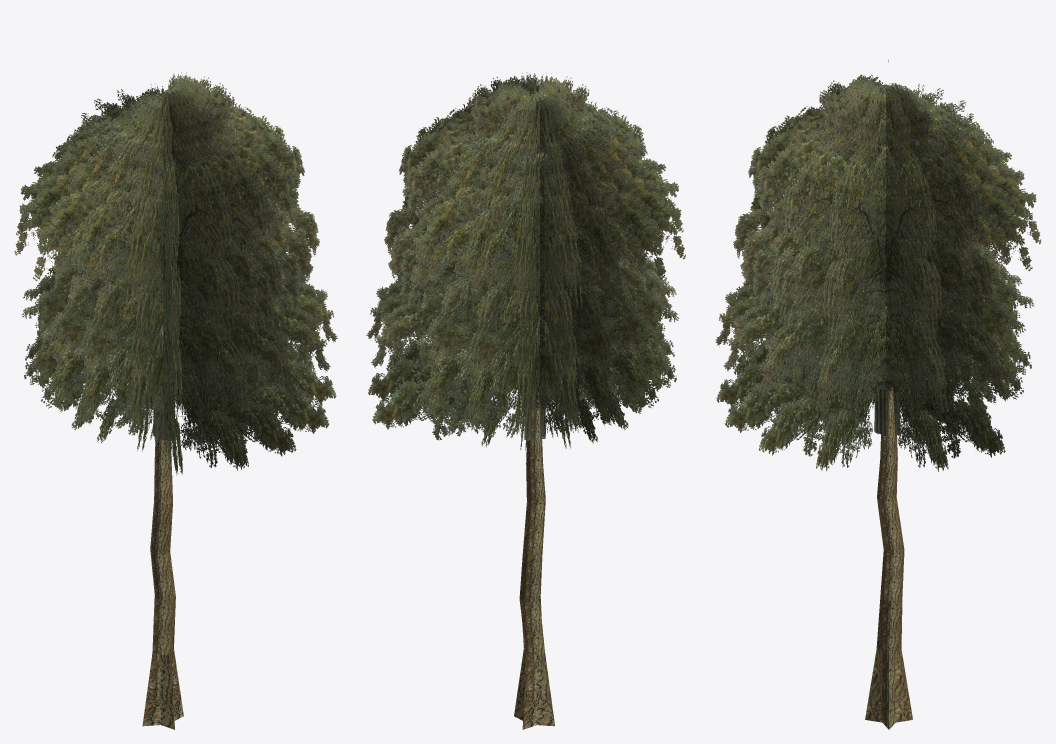
The model's file is tree1.fbx.
3 renders of one model, left to right at view 1: azimuth 30°, elevation 25°; view 2: azimuth 150°, elevation 25°; view 3: azimuth 270°, elevation 25°, orthographic.
Visible parts, largest first — view 1: tree1.002; view 2: tree1.002; view 3: tree1.002.
Part boxes in pixels (x1,y1,x2,y2): tree1.002: (14, 72, 337, 729); tree1.002: (366, 72, 685, 729); tree1.002: (715, 59, 1041, 729).
Size of the model in its own units: 15.04 by 32.61 by 15.04.
2 materials, 2 textured.
